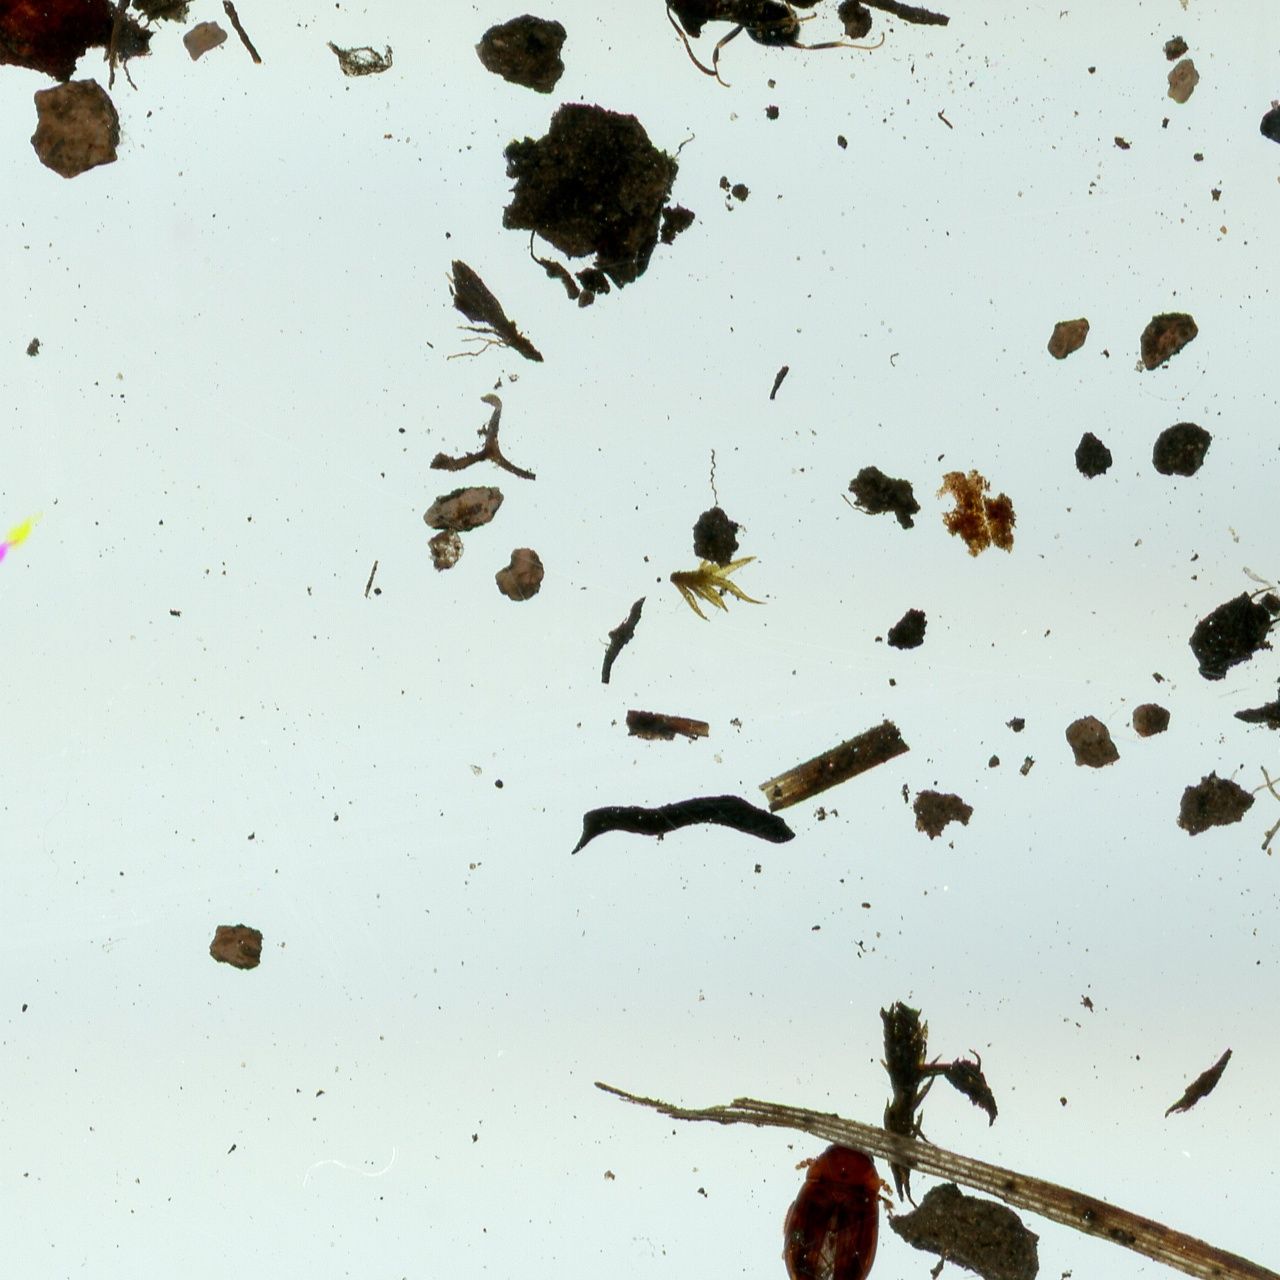arthropod: (755, 1129, 914, 1280), (655, 0, 894, 91)
